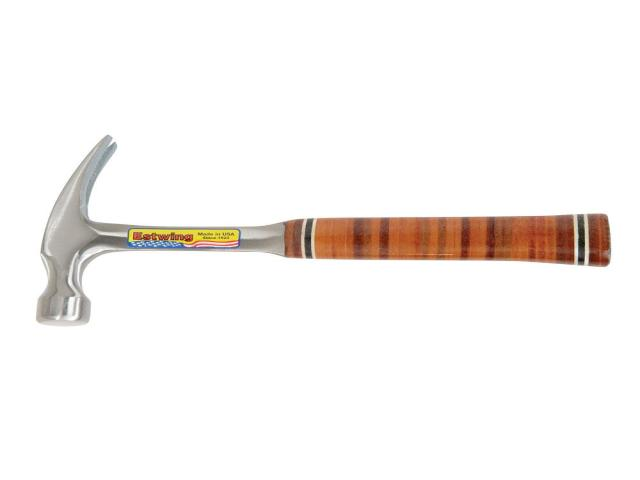hammer: (39, 134, 614, 324)
